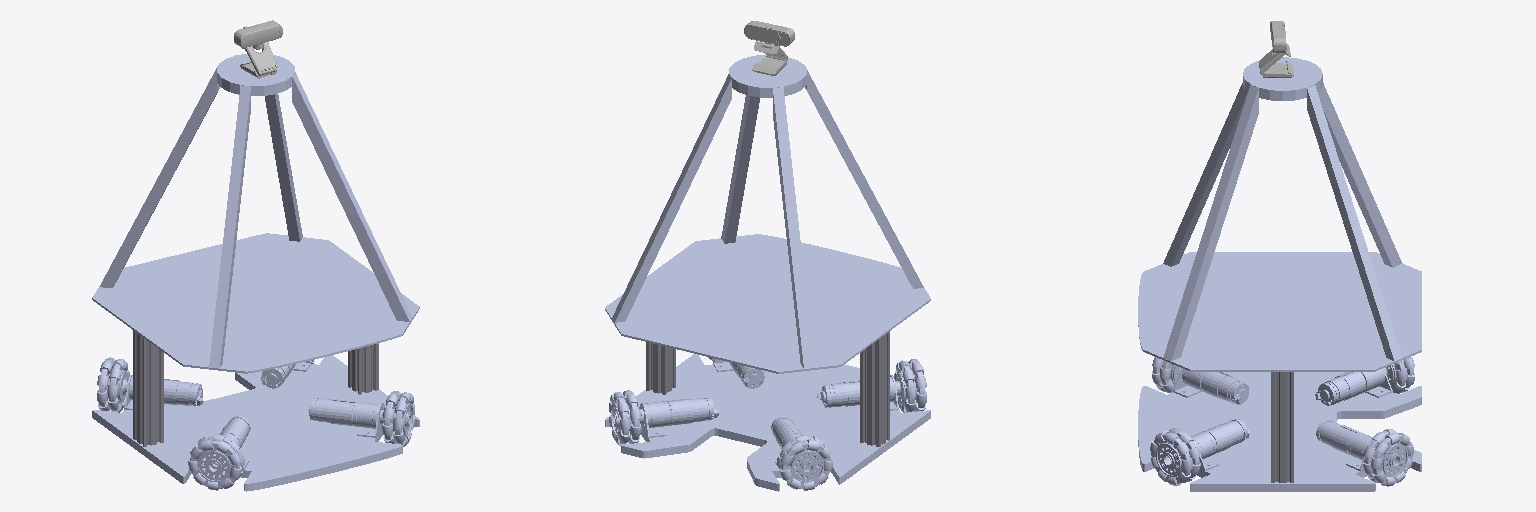
The robot description file, URDF, robot "soccer_3":
<?xml version="1.0" encoding="utf-8"?>
<!-- This URDF was automatically created by SolidWorks to URDF Exporter! Originally created by Stephen Brawner ([email redacted]) 
     Commit Version: 1.6.0-4-g7f85cfe  Build Version: 1.6.7995.38578
     For more information, please see http://wiki.ros.org/sw_urdf_exporter -->
<robot
  name="soccer_3">
  <link
    name="base_link">
    <inertial>
      <origin
        xyz="-9.3634619746652E-07 -0.0241225870755278 -0.00749999978335992"
        rpy="0 0 0" />
      <mass
        value="2.75521208964772" />
      <inertia
        ixx="0.0397108097238004"
        ixy="-7.11937190042332E-08"
        ixz="-3.100158938415E-11"
        iyy="0.0494133307222501"
        iyz="1.03180943985165E-10"
        izz="0.0890208208493428" />
    </inertial>
    <visual>
      <origin
        xyz="0 0 0"
        rpy="0 0 0" />
      <geometry>
        <mesh
          filename="package://soccer_3/meshes/base_link.STL" />
      </geometry>
      <material
        name="">
        <color
          rgba="0.792156862745098 0.819607843137255 0.933333333333333 1" />
      </material>
    </visual>
    <collision>
      <origin
        xyz="0 0 0"
        rpy="0 0 0" />
      <geometry>
        <mesh
          filename="package://soccer_3/meshes/base_link.STL" />
      </geometry>
    </collision>
  </link>
  <link
    name="base2_link">
    <inertial>
      <origin
        xyz="-5.53627679116264E-05 -0.0012727983100087 0.153777210791196"
        rpy="0 0 0" />
      <mass
        value="2.00324911916193" />
      <inertia
        ixx="0.0960582368968012"
        ixy="0.00107802559720345"
        ixz="-1.21764240635392E-05"
        iyy="0.0954939713935128"
        iyz="-0.000397573344765787"
        izz="0.0608742796614766" />
    </inertial>
    <visual>
      <origin
        xyz="0 0 0"
        rpy="0 0 0" />
      <geometry>
        <mesh
          filename="package://soccer_3/meshes/base2_link.STL" />
      </geometry>
      <material
        name="">
        <color
          rgba="0.792156862745098 0.819607843137255 0.933333333333333 1" />
      </material>
    </visual>
    <collision>
      <origin
        xyz="0 0 0"
        rpy="0 0 0" />
      <geometry>
        <mesh
          filename="package://soccer_3/meshes/base2_link.STL" />
      </geometry>
    </collision>
  </link>
  <joint
    name="base2"
    type="fixed">
    <origin
      xyz="0 0 0.222"
      rpy="0 0 0" />
    <parent
      link="base_link" />
    <child
      link="base2_link" />
    <axis
      xyz="0 0 0" />
  </joint>
  <link
    name="penyanggakiri_Link">
    <inertial>
      <origin
        xyz="0 -0.02 -6.93889390390723E-18"
        rpy="0 0 0" />
      <mass
        value="0.104766172605227" />
      <inertia
        ixx="0.000433217864027935"
        ixy="-8.53030006695309E-22"
        ixz="-2.55528950706154E-20"
        iyy="0.000433217864027935"
        iyz="9.06985840261303E-21"
        izz="3.6617796907407E-05" />
    </inertial>
    <visual>
      <origin
        xyz="0 0 0"
        rpy="0 0 0" />
      <geometry>
        <mesh
          filename="package://soccer_3/meshes/penyanggakiri_Link.STL" />
      </geometry>
      <material
        name="">
        <color
          rgba="0.588235294117647 0.588235294117647 0.631372549019608 1" />
      </material>
    </visual>
    <collision>
      <origin
        xyz="0 0 0"
        rpy="0 0 0" />
      <geometry>
        <mesh
          filename="package://soccer_3/meshes/penyanggakiri_Link.STL" />
      </geometry>
    </collision>
  </link>
  <joint
    name="penyanggakiri"
    type="fixed">
    <origin
      xyz="-0.222500000000001 0.0200000000000538 0.109"
      rpy="0 0 0" />
    <parent
      link="base_link" />
    <child
      link="penyanggakiri_Link" />
    <axis
      xyz="0 0 0" />
  </joint>
  <link
    name="penyanggakanan_Link">
    <inertial>
      <origin
        xyz="0 -0.02 -1.04083408558608E-16"
        rpy="0 0 0" />
      <mass
        value="0.104766172605227" />
      <inertia
        ixx="0.000433217864027935"
        ixy="5.16987882845642E-23"
        ixz="1.00687677853037E-20"
        iyy="0.000433217864027935"
        iyz="5.8308637220237E-21"
        izz="3.66177969074071E-05" />
    </inertial>
    <visual>
      <origin
        xyz="0 0 0"
        rpy="0 0 0" />
      <geometry>
        <mesh
          filename="package://soccer_3/meshes/penyanggakanan_Link.STL" />
      </geometry>
      <material
        name="">
        <color
          rgba="0.588235294117647 0.588235294117647 0.631372549019608 1" />
      </material>
    </visual>
    <collision>
      <origin
        xyz="0 0 0"
        rpy="0 0 0" />
      <geometry>
        <mesh
          filename="package://soccer_3/meshes/penyanggakanan_Link.STL" />
      </geometry>
    </collision>
  </link>
  <joint
    name="penyanggakanan"
    type="fixed">
    <origin
      xyz="0.222 0.0199999999999766 0.109"
      rpy="0 0 0" />
    <parent
      link="base_link" />
    <child
      link="penyanggakanan_Link" />
    <axis
      xyz="0 0 0" />
  </joint>
  <link
    name="frwheel_Link">
    <inertial>
      <origin
        xyz="-0.0222082248789537 1.88625562387301E-05 3.40787825264983E-05"
        rpy="0 0 0" />
      <mass
        value="0.208129547871772" />
      <inertia
        ixx="9.83251842819817E-05"
        ixy="-7.19317878509042E-14"
        ixz="9.45281454716786E-14"
        iyy="5.36058632876508E-05"
        iyz="8.67931151752009E-09"
        izz="5.36034464443978E-05" />
    </inertial>
    <visual>
      <origin
        xyz="0 0 0"
        rpy="0 0 0" />
      <geometry>
        <mesh
          filename="package://soccer_3/meshes/frwheel_Link.STL" />
      </geometry>
      <material
        name="">
        <color
          rgba="0.792156862745098 0.819607843137255 0.933333333333333 1" />
      </material>
    </visual>
    <collision>
      <origin
        xyz="0 0 0"
        rpy="0 0 0" />
      <geometry>
        <mesh
          filename="package://soccer_3/meshes/frwheel_Link.STL" />
      </geometry>
    </collision>
  </link>
  <joint
    name="frwheel"
    type="continuous">
    <origin
      xyz="0.203645812810443 0.200794266666004 0.0245164823436376"
      rpy="0 0 0.785398163397448" />
    <parent
      link="base_link" />
    <child
      link="frwheel_Link" />
    <axis
      xyz="1 0 0" />
  </joint>
  <link
    name="flwheel_Link">
    <inertial>
      <origin
        xyz="-0.0222082248788698 9.96517412388265E-06 -3.76544260001291E-05"
        rpy="0 0 0" />
      <mass
        value="0.208129547871771" />
      <inertia
        ixx="9.83251842835079E-05"
        ixy="1.12325557519556E-13"
        ixz="-1.16400062014233E-14"
        iyy="5.35960344408307E-05"
        iyz="1.57446701783891E-09"
        izz="5.36132752920735E-05" />
    </inertial>
    <visual>
      <origin
        xyz="0 0 0"
        rpy="0 0 0" />
      <geometry>
        <mesh
          filename="package://soccer_3/meshes/flwheel_Link.STL" />
      </geometry>
      <material
        name="">
        <color
          rgba="0.792156862745098 0.819607843137255 0.933333333333333 1" />
      </material>
    </visual>
    <collision>
      <origin
        xyz="0 0 0"
        rpy="0 0 0" />
      <geometry>
        <mesh
          filename="package://soccer_3/meshes/flwheel_Link.STL" />
      </geometry>
    </collision>
  </link>
  <joint
    name="flwheel"
    type="continuous">
    <origin
      xyz="-0.200794266665985 0.203645812810446 0.0245164823436381"
      rpy="0 0 2.35619449019235" />
    <parent
      link="base_link" />
    <child
      link="flwheel_Link" />
    <axis
      xyz="1 0 0" />
  </joint>
  <link
    name="brwheel_Link">
    <inertial>
      <origin
        xyz="-0.0222082248788877 3.50991751861818E-05 -1.68881029577114E-05"
        rpy="0 0 0" />
      <mass
        value="0.208129547871772" />
      <inertia
        ixx="9.83251842836503E-05"
        ixy="8.05523064293908E-14"
        ixz="7.92986559270935E-14"
        iyy="5.36044427817281E-05"
        iyz="-8.76046462435255E-09"
        izz="5.36048669511918E-05" />
    </inertial>
    <visual>
      <origin
        xyz="0 0 0"
        rpy="0 0 0" />
      <geometry>
        <mesh
          filename="package://soccer_3/meshes/brwheel_Link.STL" />
      </geometry>
      <material
        name="">
        <color
          rgba="0.792156862745098 0.819607843137255 0.933333333333333 1" />
      </material>
    </visual>
    <collision>
      <origin
        xyz="0 0 0"
        rpy="0 0 0" />
      <geometry>
        <mesh
          filename="package://soccer_3/meshes/brwheel_Link.STL" />
      </geometry>
    </collision>
  </link>
  <joint
    name="brwheel"
    type="continuous">
    <origin
      xyz="0.200794266666001 -0.203645812810428 0.0245164823436377"
      rpy="0 0 -0.78539816339745" />
    <parent
      link="base_link" />
    <child
      link="brwheel_Link" />
    <axis
      xyz="1 0 0" />
  </joint>
  <link
    name="blwheel_Link">
    <inertial>
      <origin
        xyz="-0.0222082248789046 -3.72891443660706E-05 -1.12552064237062E-05"
        rpy="0 0 0" />
      <mass
        value="0.208129547871772" />
      <inertia
        ixx="9.83251842935072E-05"
        ixy="-4.30353723577387E-15"
        ixz="-1.14946527308265E-13"
        iyy="5.36133631859635E-05"
        iyz="-9.77725386758499E-10"
        izz="5.35959465547853E-05" />
    </inertial>
    <visual>
      <origin
        xyz="0 0 0"
        rpy="0 0 0" />
      <geometry>
        <mesh
          filename="package://soccer_3/meshes/blwheel_Link.STL" />
      </geometry>
      <material
        name="">
        <color
          rgba="0.792156862745098 0.819607843137255 0.933333333333333 1" />
      </material>
    </visual>
    <collision>
      <origin
        xyz="0 0 0"
        rpy="0 0 0" />
      <geometry>
        <mesh
          filename="package://soccer_3/meshes/blwheel_Link.STL" />
      </geometry>
    </collision>
  </link>
  <joint
    name="blwheel"
    type="continuous">
    <origin
      xyz="-0.203645812810408 -0.200794266665966 0.0245164823436366"
      rpy="0 0 -2.35619449019235" />
    <parent
      link="base_link" />
    <child
      link="blwheel_Link" />
    <axis
      xyz="1 0 0" />
  </joint>
  <link
    name="pkn1_Link">
    <inertial>
      <origin
        xyz="-0.00683616500204631 -0.00683616500204653 -0.0177175361494385"
        rpy="0 0 0" />
      <mass
        value="0.0136210617991687" />
      <inertia
        ixx="6.06218493378257E-06"
        ixy="2.33201981515106E-06"
        ixz="-6.78112636484805E-07"
        iyy="6.06218493378257E-06"
        iyz="-6.78112636484803E-07"
        izz="8.05408292898715E-06" />
    </inertial>
    <visual>
      <origin
        xyz="0 0 0"
        rpy="0 0 0" />
      <geometry>
        <mesh
          filename="package://soccer_3/meshes/pkn1_Link.STL" />
      </geometry>
      <material
        name="">
        <color
          rgba="0.792156862745098 0.819607843137255 0.933333333333333 1" />
      </material>
    </visual>
    <collision>
      <origin
        xyz="0 0 0"
        rpy="0 0 0" />
      <geometry>
        <mesh
          filename="package://soccer_3/meshes/pkn1_Link.STL" />
      </geometry>
    </collision>
  </link>
  <joint
    name="pkn1"
    type="fixed">
    <origin
      xyz="0.164036273554157 0.164036273554143 0.0265"
      rpy="0 0 0" />
    <parent
      link="base_link" />
    <child
      link="pkn1_Link" />
    <axis
      xyz="0 0 0" />
  </joint>
  <link
    name="pkn2_Link">
    <inertial>
      <origin
        xyz="0.00683616500204653 -0.00683616500204631 -0.0177175361494386"
        rpy="0 0 0" />
      <mass
        value="0.0136210617991685" />
      <inertia
        ixx="6.06218493378249E-06"
        ixy="-2.33201981515103E-06"
        ixz="6.78112636484794E-07"
        iyy="6.06218493378249E-06"
        iyz="-6.78112636484806E-07"
        izz="8.05408292898708E-06" />
    </inertial>
    <visual>
      <origin
        xyz="0 0 0"
        rpy="0 0 0" />
      <geometry>
        <mesh
          filename="package://soccer_3/meshes/pkn2_Link.STL" />
      </geometry>
      <material
        name="">
        <color
          rgba="0.792156862745098 0.819607843137255 0.933333333333333 1" />
      </material>
    </visual>
    <collision>
      <origin
        xyz="0 0 0"
        rpy="0 0 0" />
      <geometry>
        <mesh
          filename="package://soccer_3/meshes/pkn2_Link.STL" />
      </geometry>
    </collision>
  </link>
  <joint
    name="pkn2"
    type="fixed">
    <origin
      xyz="-0.164036273554126 0.164036273554159 0.0265"
      rpy="0 0 0" />
    <parent
      link="base_link" />
    <child
      link="pkn2_Link" />
    <axis
      xyz="0 0 0" />
  </joint>
  <link
    name="pkn3_Link">
    <inertial>
      <origin
        xyz="-0.00683616500204653 0.00683616500204642 -0.0177175361494385"
        rpy="0 0 0" />
      <mass
        value="0.0136210617991686" />
      <inertia
        ixx="6.06218493378251E-06"
        ixy="-2.33201981515106E-06"
        ixz="-6.78112636484811E-07"
        iyy="6.06218493378255E-06"
        iyz="6.78112636484798E-07"
        izz="8.0540829289871E-06" />
    </inertial>
    <visual>
      <origin
        xyz="0 0 0"
        rpy="0 0 0" />
      <geometry>
        <mesh
          filename="package://soccer_3/meshes/pkn3_Link.STL" />
      </geometry>
      <material
        name="">
        <color
          rgba="0.792156862745098 0.819607843137255 0.933333333333333 1" />
      </material>
    </visual>
    <collision>
      <origin
        xyz="0 0 0"
        rpy="0 0 0" />
      <geometry>
        <mesh
          filename="package://soccer_3/meshes/pkn3_Link.STL" />
      </geometry>
    </collision>
  </link>
  <joint
    name="pkn3"
    type="fixed">
    <origin
      xyz="0.164036273554141 -0.16403627355414 0.0265"
      rpy="0 0 0" />
    <parent
      link="base_link" />
    <child
      link="pkn3_Link" />
    <axis
      xyz="0 0 0" />
  </joint>
  <link
    name="pkn4_Link">
    <inertial>
      <origin
        xyz="0.0263223733237299 0.0234124025208765 -0.0159899740664732"
        rpy="0 0 0" />
      <mass
        value="0.0136210617991687" />
      <inertia
        ixx="6.06218493378257E-06"
        ixy="2.33201981515106E-06"
        ixz="6.78112636484796E-07"
        iyy="6.06218493378257E-06"
        iyz="6.78112636484804E-07"
        izz="8.05408292898716E-06" />
    </inertial>
    <visual>
      <origin
        xyz="0 0 0"
        rpy="0 0 0" />
      <geometry>
        <mesh
          filename="package://soccer_3/meshes/pkn4_Link.STL" />
      </geometry>
      <material
        name="">
        <color
          rgba="0.792156862745098 0.819607843137255 0.933333333333333 1" />
      </material>
    </visual>
    <collision>
      <origin
        xyz="0 0 0"
        rpy="0 0 0" />
      <geometry>
        <mesh
          filename="package://soccer_3/meshes/pkn4_Link.STL" />
      </geometry>
    </collision>
  </link>
  <joint
    name="pkn4"
    type="fixed">
    <origin
      xyz="-0.18352248187581 -0.180612511072938 0.0247724379170347"
      rpy="0 0 0" />
    <parent
      link="base_link" />
    <child
      link="pkn4_Link" />
    <axis
      xyz="0 0 0" />
  </joint>
  <link
    name="dc1_Link">
    <inertial>
      <origin
        xyz="-0.0617689754383473 -0.0616020922647164 -0.000311951031879608"
        rpy="0 0 0" />
      <mass
        value="0.19177508814126" />
      <inertia
        ixx="0.000162200525677456"
        ixy="-0.000117950772530602"
        ixz="-1.74504030155337E-07"
        iyy="0.000164047508620232"
        iyz="-1.16885406395647E-07"
        izz="0.000281366663564629" />
    </inertial>
    <visual>
      <origin
        xyz="0 0 0"
        rpy="0 0 0" />
      <geometry>
        <mesh
          filename="package://soccer_3/meshes/dc1_Link.STL" />
      </geometry>
      <material
        name="">
        <color
          rgba="0.792156862745098 0.819607843137255 0.933333333333333 1" />
      </material>
    </visual>
    <collision>
      <origin
        xyz="0 0 0"
        rpy="0 0 0" />
      <geometry>
        <mesh
          filename="package://soccer_3/meshes/dc1_Link.STL" />
      </geometry>
    </collision>
  </link>
  <joint
    name="dc1"
    type="fixed">
    <origin
      xyz="0.183522481875841 0.180612511072973 0.024772437917016"
      rpy="0 0 0" />
    <parent
      link="base_link" />
    <child
      link="dc1_Link" />
    <axis
      xyz="0 0 0" />
  </joint>
  <link
    name="dc2_Link">
    <inertial>
      <origin
        xyz="0.0616020922647165 -0.0617689754383476 -0.000311951031879545"
        rpy="0 0 0" />
      <mass
        value="0.19177508814126" />
      <inertia
        ixx="0.000164047508620232"
        ixy="0.000117950772530601"
        ixz="1.1688540639572E-07"
        iyy="0.000162200525677455"
        iyz="-1.74504030155396E-07"
        izz="0.000281366663564627" />
    </inertial>
    <visual>
      <origin
        xyz="0 0 0"
        rpy="0 0 0" />
      <geometry>
        <mesh
          filename="package://soccer_3/meshes/dc2_Link.STL" />
      </geometry>
      <material
        name="">
        <color
          rgba="0.792156862745098 0.819607843137255 0.933333333333333 1" />
      </material>
    </visual>
    <collision>
      <origin
        xyz="0 0 0"
        rpy="0 0 0" />
      <geometry>
        <mesh
          filename="package://soccer_3/meshes/dc2_Link.STL" />
      </geometry>
    </collision>
  </link>
  <joint
    name="dc2"
    type="fixed">
    <origin
      xyz="-0.180612511072954 0.183522481875847 0.0247724379170299"
      rpy="0 0 0" />
    <parent
      link="base_link" />
    <child
      link="dc2_Link" />
    <axis
      xyz="0 0 0" />
  </joint>
  <link
    name="dc3_Link">
    <inertial>
      <origin
        xyz="-0.0616020922647162 0.0617689754383473 -0.000311951031879608"
        rpy="0 0 0" />
      <mass
        value="0.19177508814126" />
      <inertia
        ixx="0.000164047508620232"
        ixy="0.000117950772530602"
        ixz="-1.168854063957E-07"
        iyy="0.000162200525677456"
        iyz="1.74504030155392E-07"
        izz="0.000281366663564628" />
    </inertial>
    <visual>
      <origin
        xyz="0 0 0"
        rpy="0 0 0" />
      <geometry>
        <mesh
          filename="package://soccer_3/meshes/dc3_Link.STL" />
      </geometry>
      <material
        name="">
        <color
          rgba="0.792156862745098 0.819607843137255 0.933333333333333 1" />
      </material>
    </visual>
    <collision>
      <origin
        xyz="0 0 0"
        rpy="0 0 0" />
      <geometry>
        <mesh
          filename="package://soccer_3/meshes/dc3_Link.STL" />
      </geometry>
    </collision>
  </link>
  <joint
    name="dc3"
    type="fixed">
    <origin
      xyz="0.180612511072971 -0.183522481875824 0.0247724379170427"
      rpy="0 0 0" />
    <parent
      link="base_link" />
    <child
      link="dc3_Link" />
    <axis
      xyz="0 0 0" />
  </joint>
  <link
    name="dc4_Link">
    <inertial>
      <origin
        xyz="-0.0617689754383473 -0.0616020922647166 -0.000311951031879594"
        rpy="0 0 0" />
      <mass
        value="0.19177508814126" />
      <inertia
        ixx="0.000162200525677456"
        ixy="-0.000117950772530602"
        ixz="-1.74504030155377E-07"
        iyy="0.000164047508620231"
        iyz="-1.16885406395698E-07"
        izz="0.000281366663564627" />
    </inertial>
    <visual>
      <origin
        xyz="0 0 0"
        rpy="0 0 0" />
      <geometry>
        <mesh
          filename="package://soccer_3/meshes/dc4_Link.STL" />
      </geometry>
      <material
        name="">
        <color
          rgba="0.792156862745098 0.819607843137255 0.933333333333333 1" />
      </material>
    </visual>
    <collision>
      <origin
        xyz="0 0 0"
        rpy="0 0 0" />
      <geometry>
        <mesh
          filename="package://soccer_3/meshes/dc4_Link.STL" />
      </geometry>
    </collision>
  </link>
  <joint
    name="dc4"
    type="fixed">
    <origin
      xyz="-0.18352248187581 -0.180612511072938 0.0247724379170347"
      rpy="0 0 3.14159265358979" />
    <parent
      link="base_link" />
    <child
      link="dc4_Link" />
    <axis
      xyz="0 0 0" />
  </joint>
  <link
    name="camera_Link">
    <inertial>
      <origin
        xyz="0.000589207936300129 -0.0128570576510844 -0.0167997695311907"
        rpy="0 0 0" />
      <mass
        value="0.0858072153505564" />
      <inertia
        ixx="1.32900276151448E-05"
        ixy="-1.88152021020128E-06"
        ixz="8.18738104319757E-08"
        iyy="4.71418333933568E-05"
        iyz="-1.36629216190221E-06"
        izz="4.95502027950492E-05" />
    </inertial>
    <visual>
      <origin
        xyz="0 0 0"
        rpy="0 0 0" />
      <geometry>
        <mesh
          filename="package://soccer_3/meshes/camera_Link.STL" />
      </geometry>
      <material
        name="">
        <color
          rgba="0.752941176470588 0.752941176470588 0.752941176470588 1" />
      </material>
    </visual>
    <collision>
      <origin
        xyz="0 0 0"
        rpy="0 0 0" />
      <geometry>
        <mesh
          filename="package://soccer_3/meshes/camera_Link.STL" />
      </geometry>
    </collision>
  </link>
  <joint
    name="camera"
    type="fixed">
    <origin
      xyz="-0.000171500140926373 0.00336097004609937 0.754166259306042"
      rpy="0 0 0" />
    <parent
      link="base_link" />
    <child
      link="camera_Link" />
    <axis
      xyz="0 0 0" />
  </joint>

<!-- Transmission for Back Right Wheel -->
<transmission name="trans_brwheel">
  <type>transmission_interface/SimpleTransmission</type>
  <actuator name="brwheel_motor">
    <mechanicalReduction>1</mechanicalReduction>
  </actuator>
  <joint name="brwheel">
    <hardwareInterface>EffortJointInterface</hardwareInterface>
  </joint>
</transmission>

<!-- Transmission for Back Left Wheel -->
<transmission name="trans_blwheel">
  <type>transmission_interface/SimpleTransmission</type>
  <actuator name="blwheel_motor">
    <mechanicalReduction>1</mechanicalReduction>
  </actuator>
  <joint name="blwheel">
    <hardwareInterface>EffortJointInterface</hardwareInterface>
  </joint>
</transmission>

<!-- Transmission for Front Right Wheel -->
<transmission name="trans_frwheel">
  <type>transmission_interface/SimpleTransmission</type>
  <actuator name="frwheel_motor">
    <mechanicalReduction>1</mechanicalReduction>
  </actuator>
  <joint name="frwheel">
    <hardwareInterface>EffortJointInterface</hardwareInterface>
  </joint>
</transmission>

<!-- Transmission for Front Left Wheel -->
<transmission name="trans_flwheel">
  <type>transmission_interface/SimpleTransmission</type>
  <actuator name="flwheel_motor">
    <mechanicalReduction>1</mechanicalReduction>
  </actuator>
  <joint name="flwheel">
    <hardwareInterface>EffortJointInterface</hardwareInterface>
  </joint>
</transmission>

  <gazebo>
    <plugin name="gazebo_ros_control" filename="libgazebo_ros_control.so"/>
  </gazebo>

  

</robot>

--- What the picture shows (computed from the rendered views, not written in the file) ---
3 views of the same robot in one strip: view 1: azimuth 30°, elevation 25°; view 2: azimuth 150°, elevation 25°; view 3: azimuth 270°, elevation 25° (orthographic).
Model soccer_3 with 17 links and 16 joints (4 continuous, 12 fixed), rooted at base_link, posed every joint at zero.
Links seen in each view (by area): view 1: base2_link, base_link, penyanggakiri_Link, blwheel_Link, camera_Link, dc3_Link, brwheel_Link, flwheel_Link, penyanggakanan_Link, dc2_Link, dc4_Link; view 2: base2_link, base_link, penyanggakiri_Link, flwheel_Link, camera_Link, dc1_Link, frwheel_Link, blwheel_Link, penyanggakanan_Link, dc4_Link, dc2_Link, dc3_Link; view 3: base2_link, base_link, penyanggakanan_Link, brwheel_Link, frwheel_Link, dc2_Link, dc4_Link, dc3_Link, dc1_Link, camera_Link, flwheel_Link, blwheel_Link.
Link boxes in pixels (<box>): base2_link: <box>92,54,419,373</box>; base_link: <box>92,355,419,491</box>; penyanggakiri_Link: <box>133,330,163,446</box>; blwheel_Link: <box>188,435,244,490</box>; camera_Link: <box>234,20,282,78</box>; dc3_Link: <box>308,398,379,428</box>; brwheel_Link: <box>380,391,414,446</box>; flwheel_Link: <box>97,357,129,412</box>; penyanggakanan_Link: <box>348,343,378,394</box>; dc2_Link: <box>129,376,203,406</box>; dc4_Link: <box>220,416,250,448</box>; base2_link: <box>605,55,930,373</box>; base_link: <box>605,354,930,491</box>; penyanggakiri_Link: <box>860,331,889,446</box>; flwheel_Link: <box>777,435,832,490</box>; camera_Link: <box>744,21,794,75</box>; dc1_Link: <box>644,397,718,427</box>; frwheel_Link: <box>609,390,643,445</box>; blwheel_Link: <box>894,359,926,412</box>; penyanggakanan_Link: <box>646,342,675,394</box>; dc4_Link: <box>817,377,894,407</box>; dc2_Link: <box>771,417,801,448</box>; dc3_Link: <box>729,362,764,388</box>; base2_link: <box>1138,57,1421,371</box>; base_link: <box>1138,372,1421,491</box>; penyanggakanan_Link: <box>1271,372,1293,482</box>; brwheel_Link: <box>1150,428,1200,485</box>; frwheel_Link: <box>1363,429,1413,486</box>; dc2_Link: <box>1315,369,1384,405</box>; dc4_Link: <box>1182,369,1248,404</box>; dc3_Link: <box>1191,419,1249,458</box>; dc1_Link: <box>1316,420,1372,460</box>; camera_Link: <box>1259,21,1293,77</box>; flwheel_Link: <box>1384,357,1414,393</box>; blwheel_Link: <box>1152,357,1181,392</box>.
Size in the robot's own frame: 0.49 by 0.5 by 0.7951 metres.
Meshes: 17 distinct files referenced, 17 mesh visuals loaded (17 binary STL).
